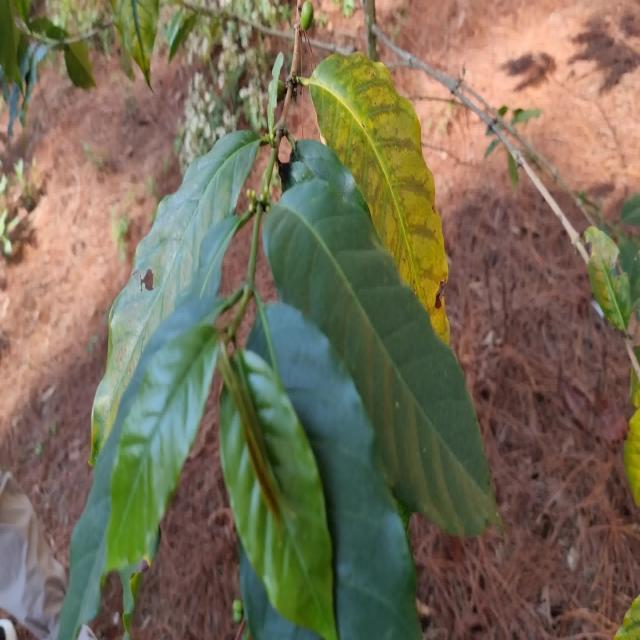leaves: (238, 158, 535, 559), (37, 110, 273, 454), (234, 285, 440, 640), (290, 33, 519, 347), (70, 309, 237, 577), (202, 340, 350, 640)
